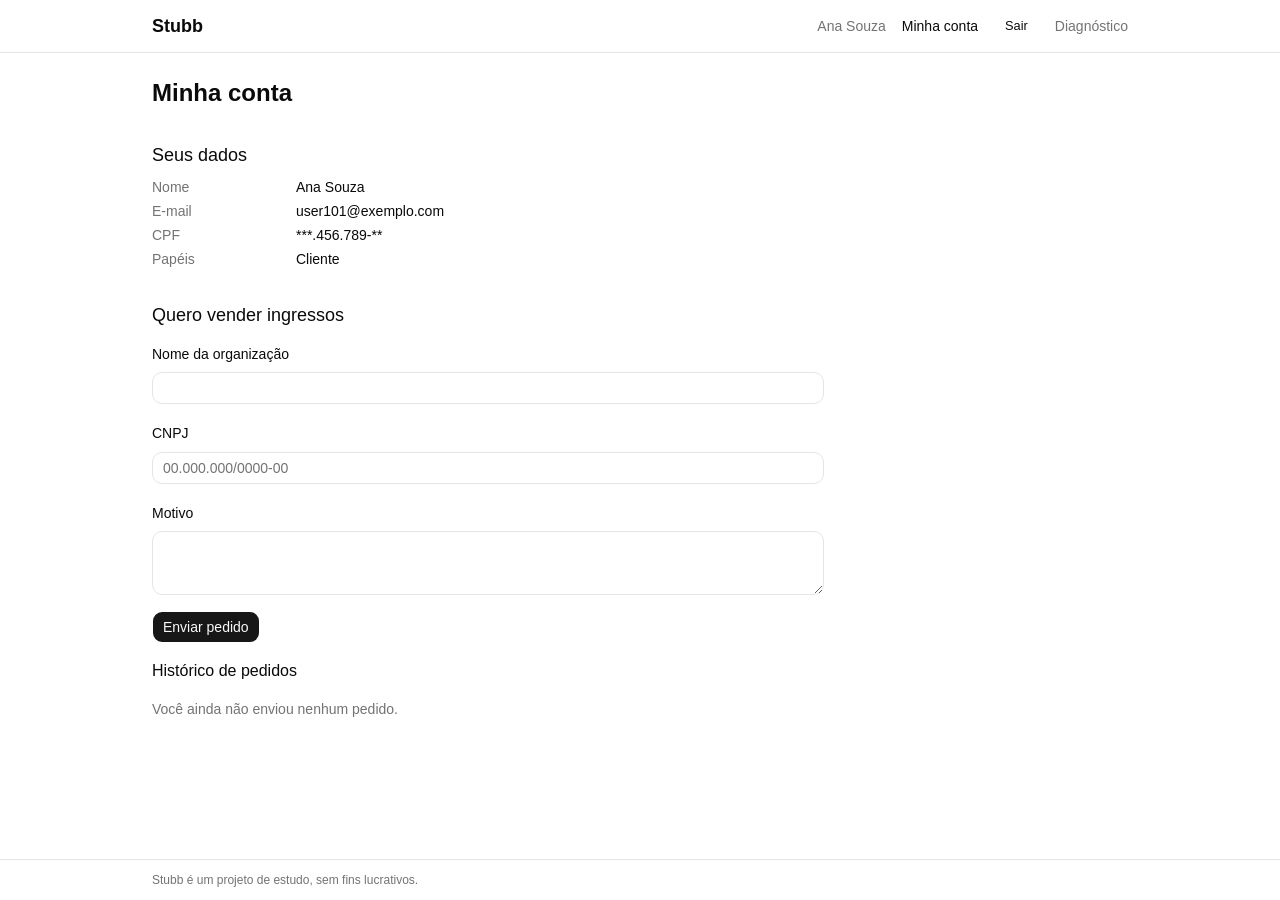
Test: AccountPage › CNPJ inválido aparece no campo e nada é enviado
Type "Produtora Aurora" into the field labelled "Nome da organização" at (488, 388), box [152,372,824,404]
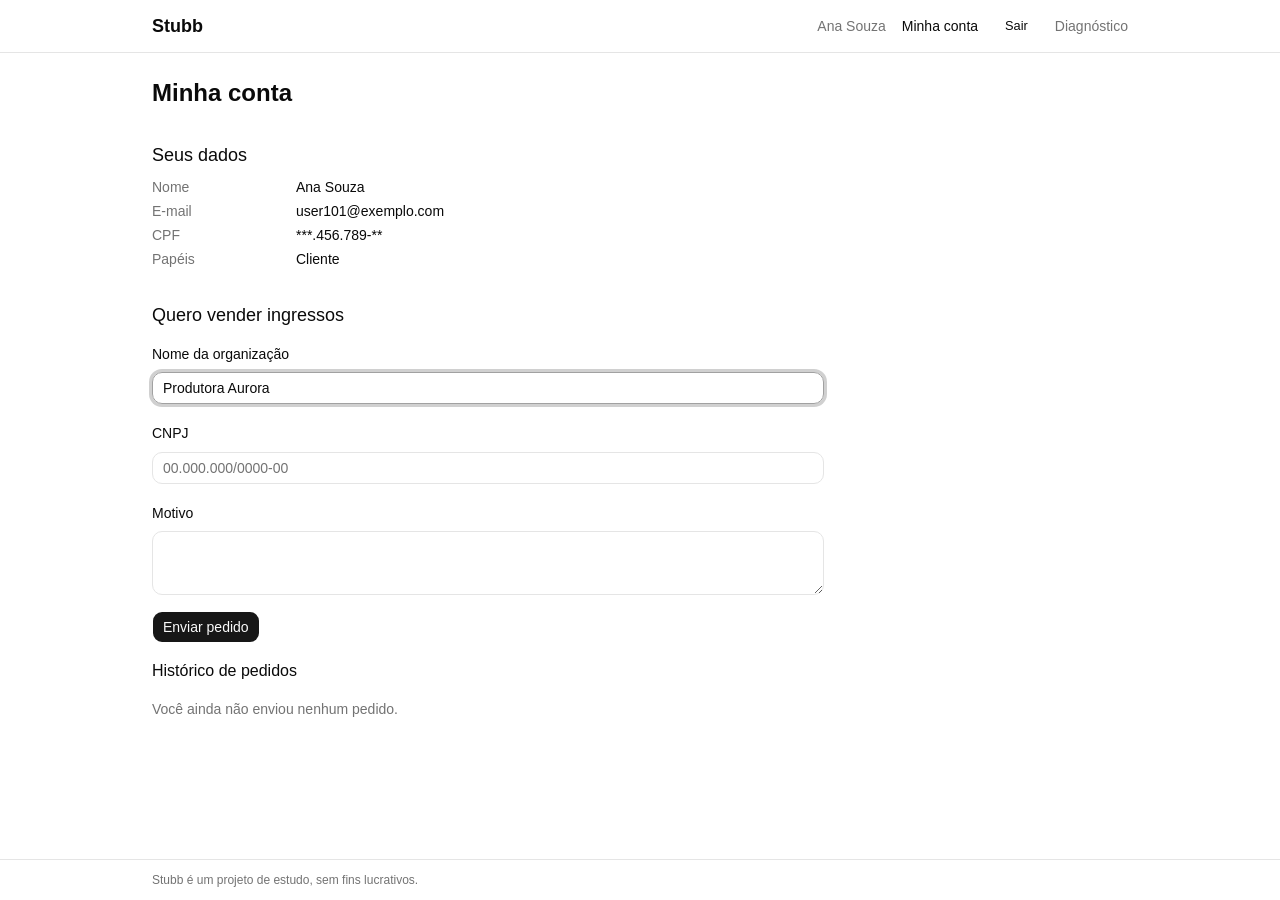
Type "11222333000180" into the field labelled "CNPJ" at (488, 468), box [152,452,824,484]
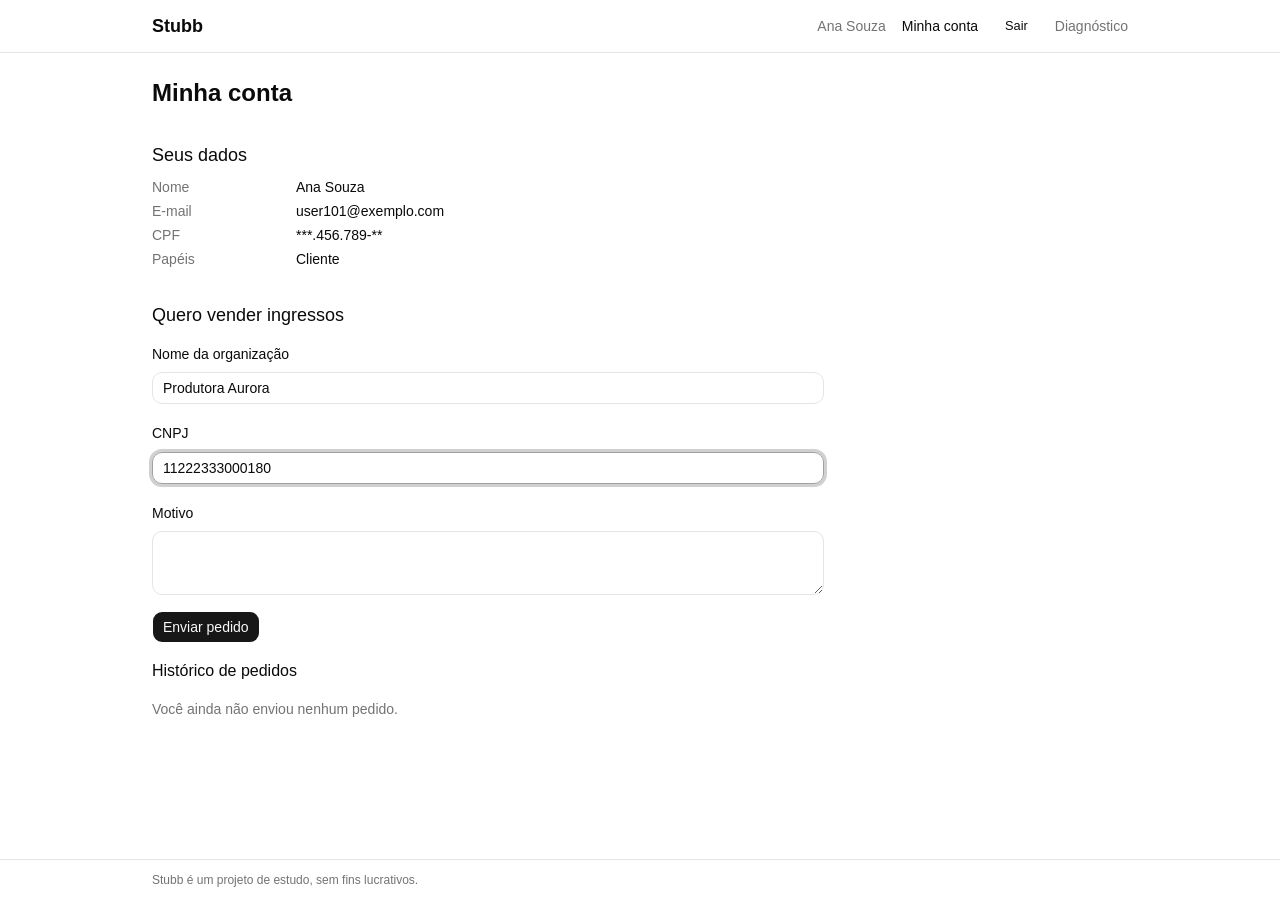
Type "x" into the text box labelled "Motivo" at (488, 563), box [152,531,824,595]
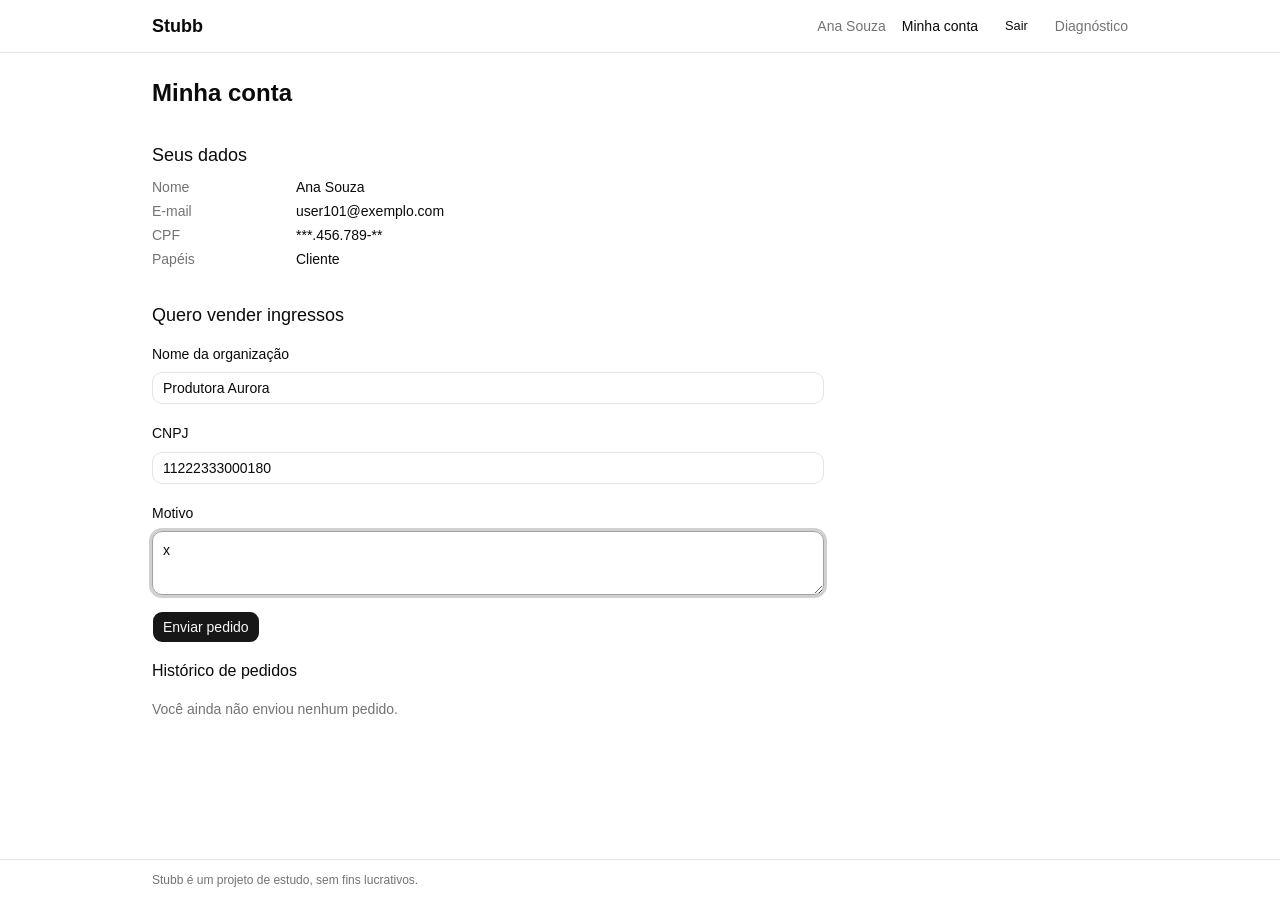
Click the button "Enviar pedido" at (206, 627), box [152,611,260,643]
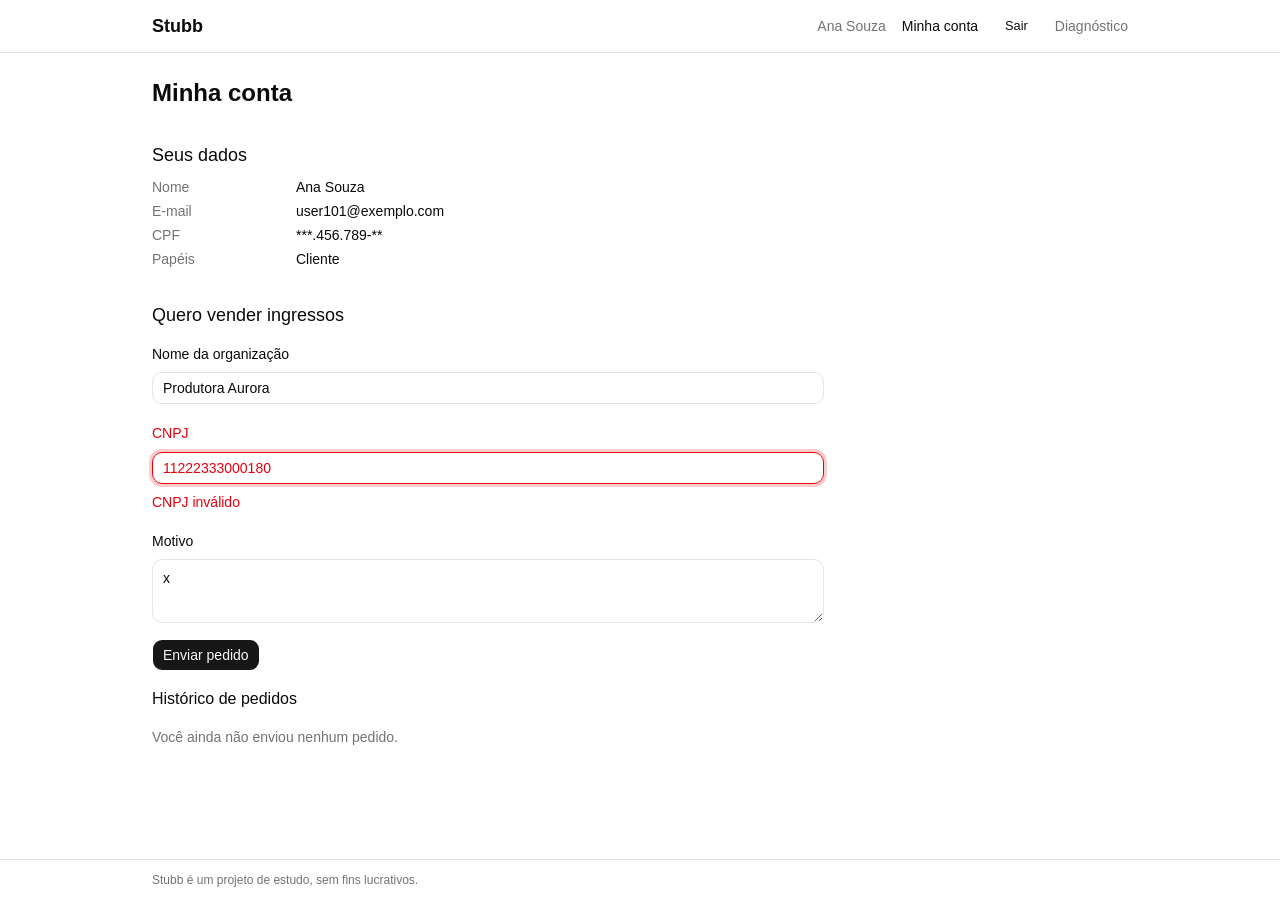
Result: the text "CNPJ inválido" is shown at [152,494,240,510]
